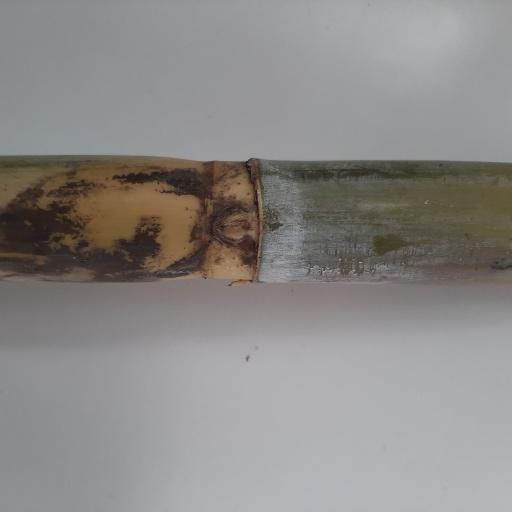Bud: (211, 201, 254, 248)
